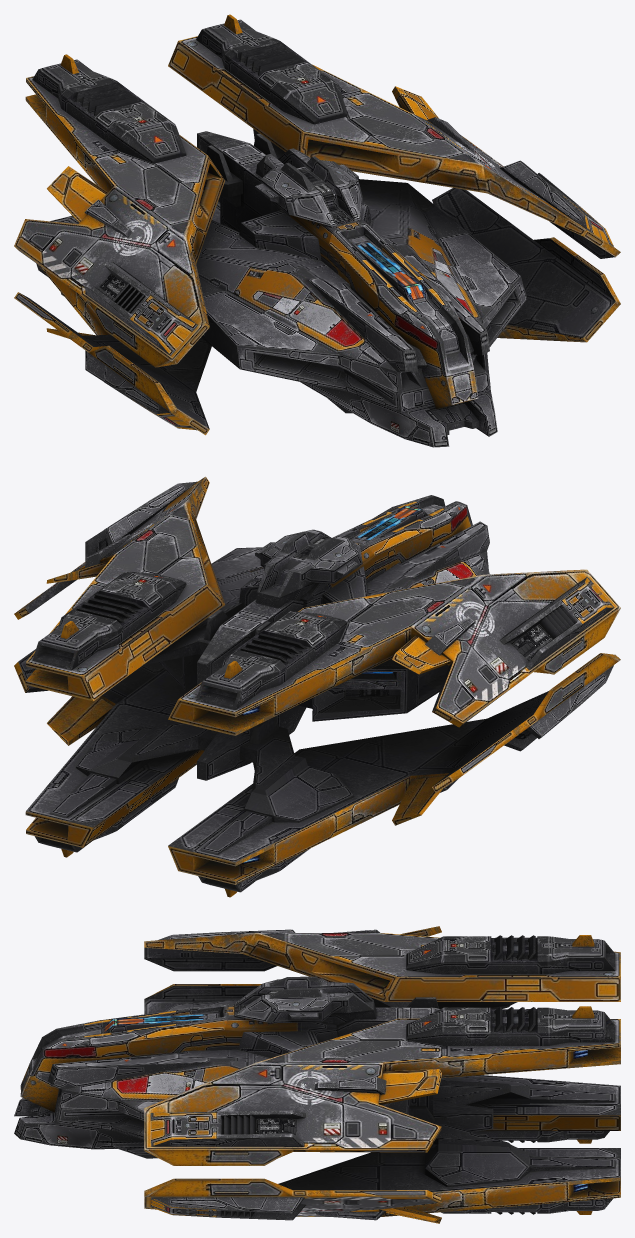
File: SciFi_Fighter.obj
3 views of the same model, one above another, from view 1: azimuth 30°, elevation 25°; view 2: azimuth 150°, elevation 25°; view 3: azimuth 270°, elevation 25° (orthographic). The views are drawn at different scales.
Parts seen in each view (by area): view 1: SciFi_Fighter_AK5; view 2: SciFi_Fighter_AK5; view 3: SciFi_Fighter_AK5.
Part boxes in pixels (x1,y1,x2,y2): SciFi_Fighter_AK5: [14, 14, 620, 447]; SciFi_Fighter_AK5: [14, 476, 620, 897]; SciFi_Fighter_AK5: [14, 926, 620, 1223].
Bounding box in the file's own units: 1544 × 748 × 1982.
Materials: 1 (1 with a texture image).
